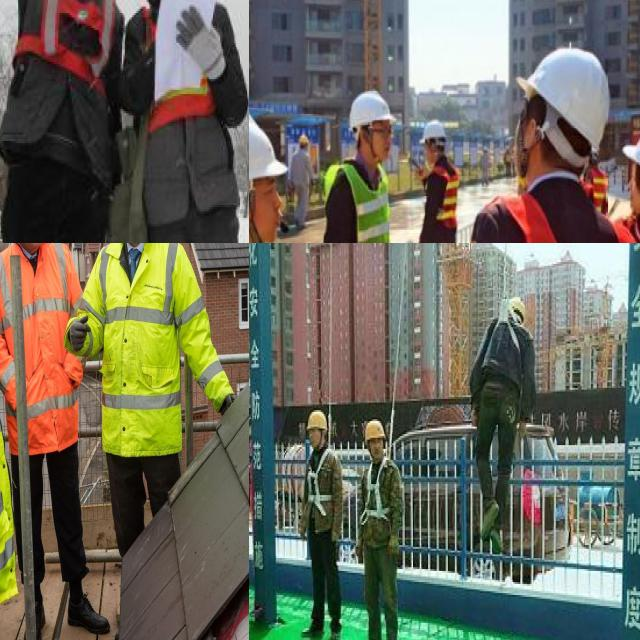face_nomask: (249, 177, 294, 243), (362, 119, 392, 170), (308, 426, 325, 451), (369, 434, 384, 460), (20, 243, 47, 257)
hand_glove: (172, 2, 227, 88), (70, 318, 96, 366), (385, 534, 403, 563), (514, 416, 531, 443), (354, 530, 365, 560), (470, 406, 478, 427)
head_helmet: (523, 45, 606, 148), (249, 110, 291, 191), (344, 84, 394, 124), (623, 123, 640, 183), (420, 114, 448, 139), (305, 406, 328, 436), (362, 418, 388, 442), (507, 294, 528, 321), (298, 133, 312, 145)
person: (83, 243, 242, 545), (0, 243, 114, 640), (468, 35, 640, 243), (123, 0, 249, 243), (0, 0, 122, 243), (476, 290, 534, 543), (322, 83, 410, 243), (293, 400, 349, 636), (351, 415, 404, 640), (414, 112, 467, 243), (588, 168, 610, 208)
shoes: (65, 595, 111, 640), (301, 618, 324, 640)
vest: (95, 243, 185, 459), (132, 0, 236, 163), (0, 243, 83, 446), (26, 0, 119, 115), (325, 162, 394, 243), (423, 162, 464, 228), (593, 168, 612, 201)
